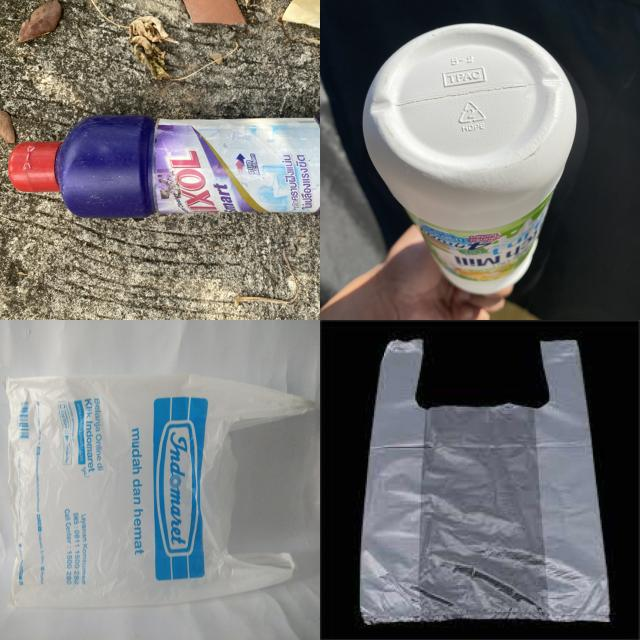HDPE Plastic: (362, 24, 576, 294), (10, 115, 320, 218)
Single-layer Plastic: (6, 375, 314, 607), (360, 340, 609, 624)
